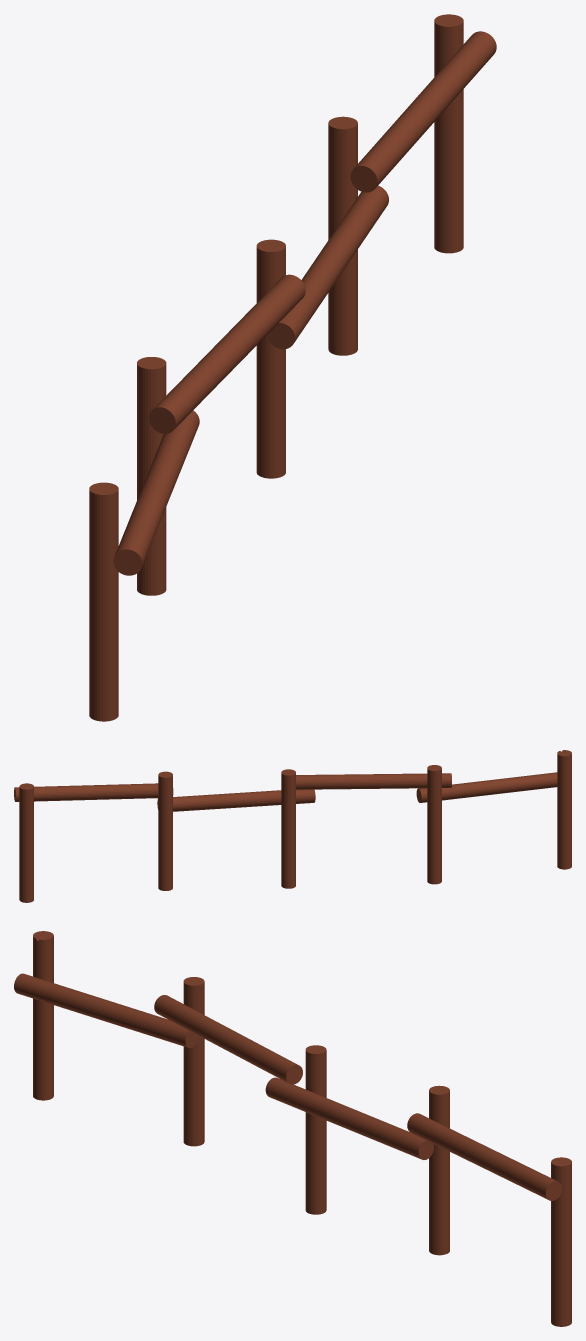
Rendered from WoodenPlank.fbx.
The picture shows the model from 3 angles, top to bottom: view 1: azimuth 30°, elevation 25°; view 2: azimuth 150°, elevation 25°; view 3: azimuth 270°, elevation 25°; orthographic projection. The views are drawn at different scales.
Parts seen in each view (by area): view 1: WoodenPlank; view 2: WoodenPlank; view 3: WoodenPlank.
Boxes of the visible parts, left/top/right/bottom form: WoodenPlank: left=89, top=14, right=496, bottom=721; WoodenPlank: left=14, top=750, right=571, bottom=902; WoodenPlank: left=14, top=931, right=571, bottom=1326.
Bounding box in the file's own units: 252 × 82.97 × 226.
